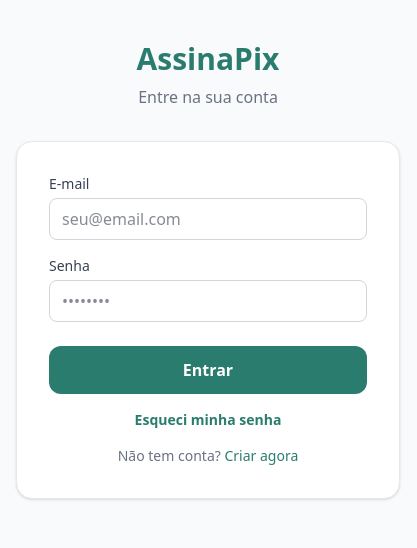
Test: LoginPage › shows error message on ApiError
In the field labelled "E-mail": coordinates (208, 219) [49,198,367,240], type "user@test.com"
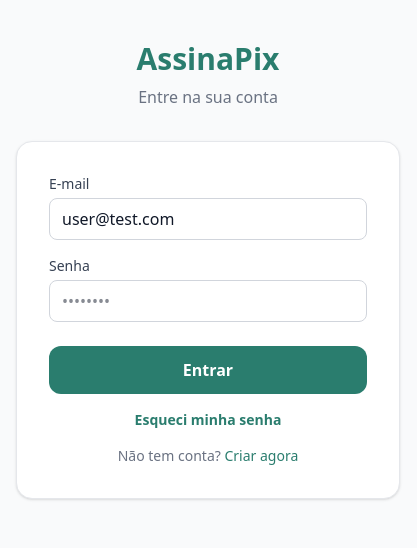
In the password field labelled "Senha": coordinates (208, 301) [49,280,367,322], type "wrongpass"
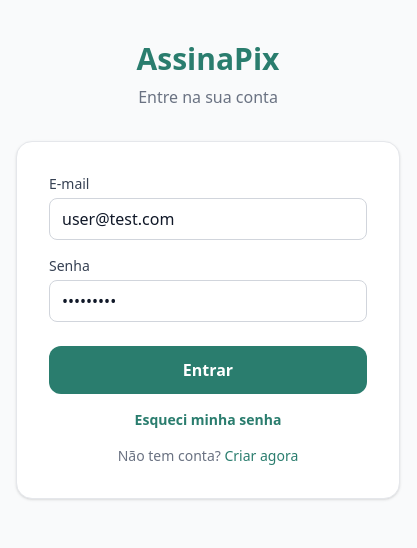
Click the button "Entrar": coordinates (208, 370) [49,346,367,394]
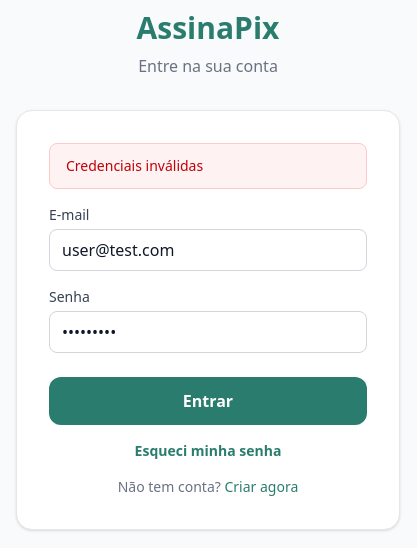
Check: the text "Credenciais inválidas" is shown, box [49,143,367,189]
